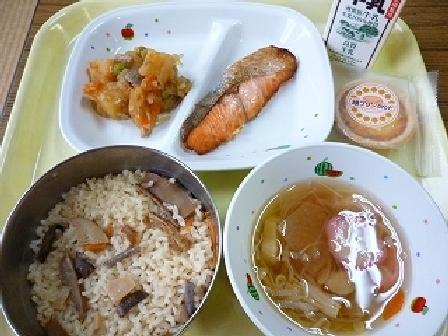Cup desserts: (310, 71, 438, 159)
Fish: (187, 42, 312, 158)
Milk: (316, 0, 416, 70)
Mixed rice: (13, 150, 225, 335)
Soups: (237, 154, 442, 335)
vegetable based cooked food: (81, 39, 187, 135)
